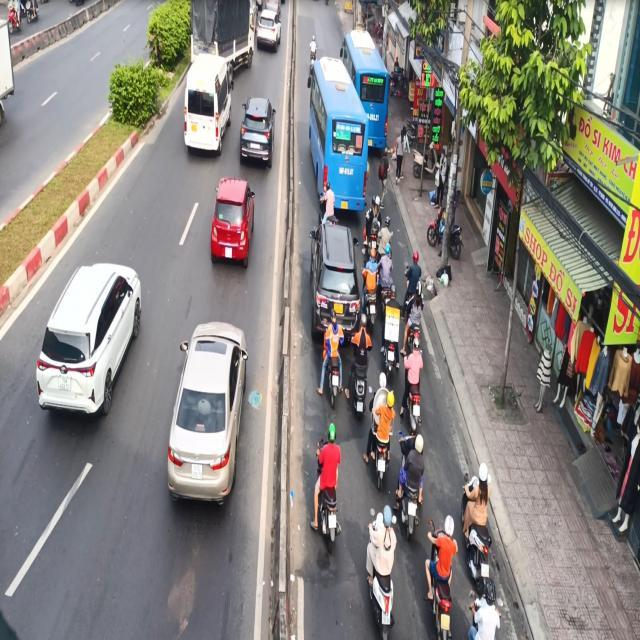bus: (306, 56, 370, 212), (338, 28, 390, 155)
car: (35, 262, 142, 417), (165, 320, 248, 506), (182, 53, 233, 156), (209, 176, 255, 267)
